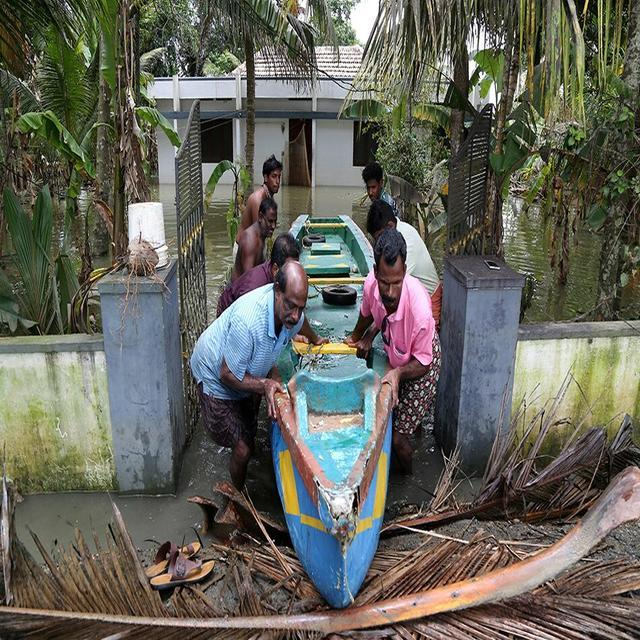Person-RiskLevel1: (190, 263, 314, 503), (350, 234, 456, 485)
Person-RiskLevel2: (352, 167, 451, 322), (222, 157, 290, 242)
